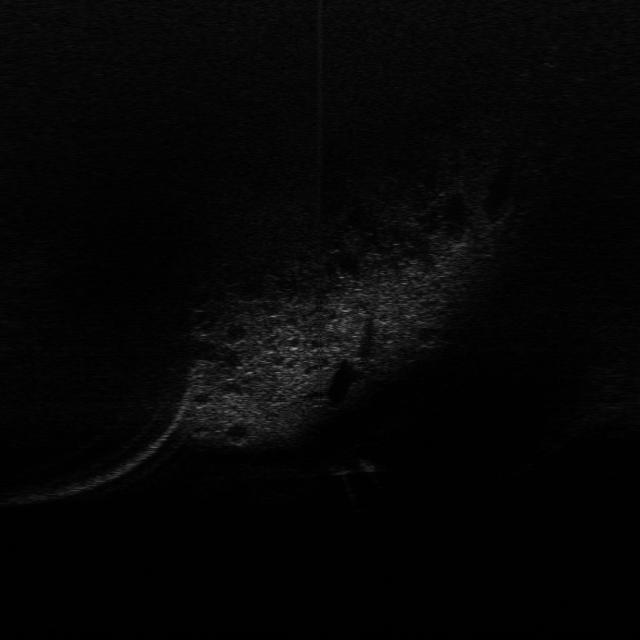cube: (324, 459, 356, 476)
cylinder: (354, 454, 380, 473)
